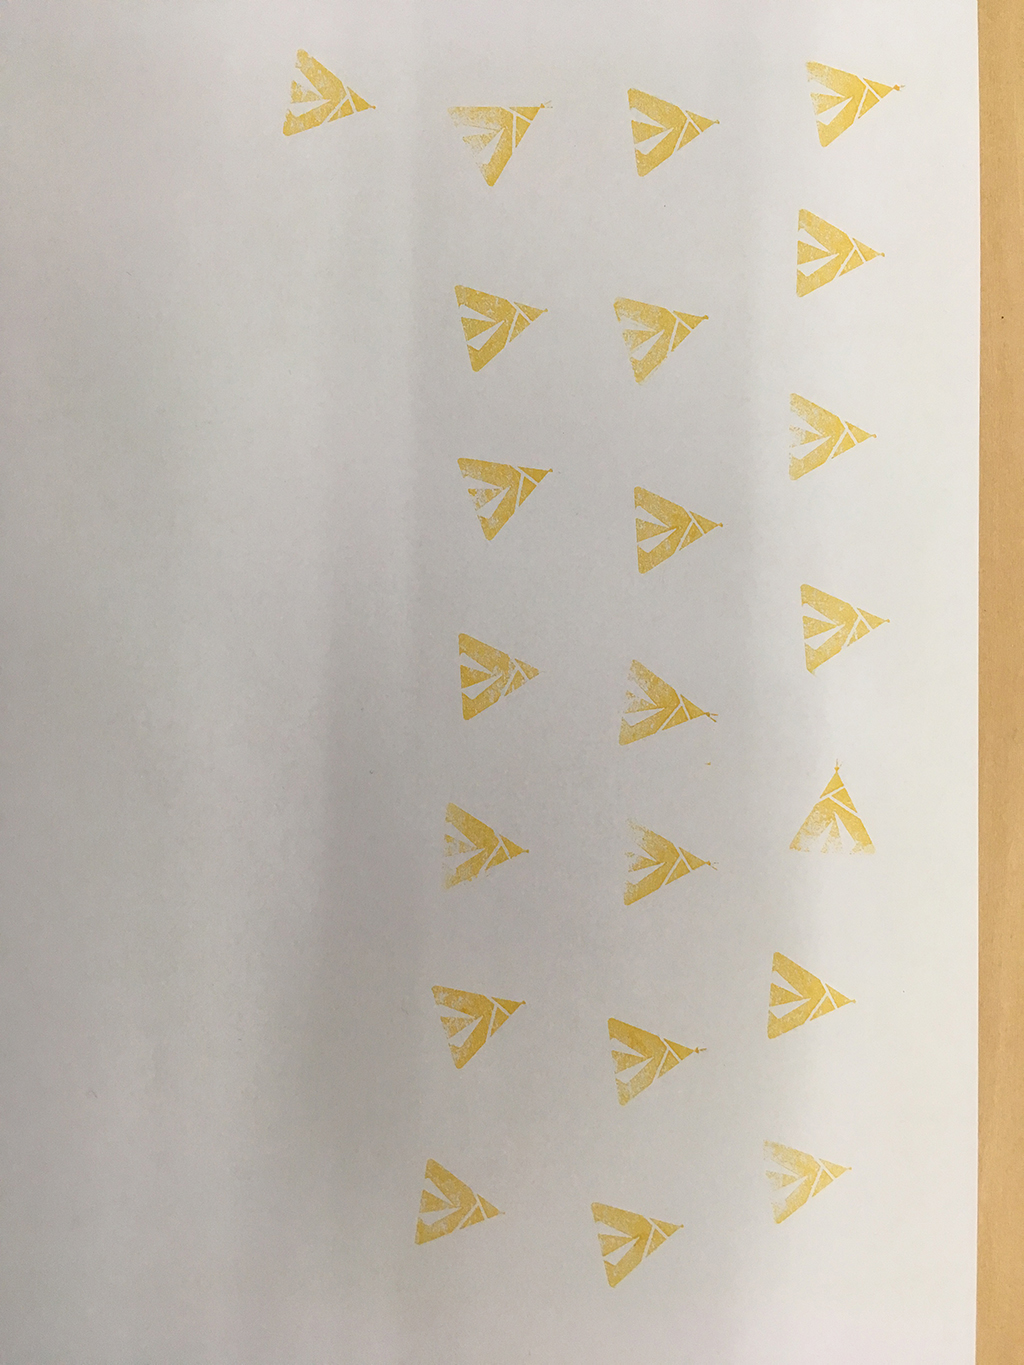tent: (616, 477, 733, 583), (600, 816, 724, 915), (433, 794, 543, 904), (601, 1013, 713, 1121), (605, 655, 727, 752), (595, 290, 714, 389), (443, 97, 556, 198), (798, 52, 912, 152), (408, 1151, 513, 1259), (585, 1193, 695, 1296), (421, 982, 537, 1077), (621, 86, 728, 188), (795, 581, 902, 682), (779, 386, 882, 489), (451, 278, 555, 379), (781, 758, 882, 863), (452, 629, 552, 733), (278, 42, 383, 140), (763, 947, 862, 1050), (754, 1133, 855, 1232), (787, 205, 888, 302), (454, 454, 558, 548)
